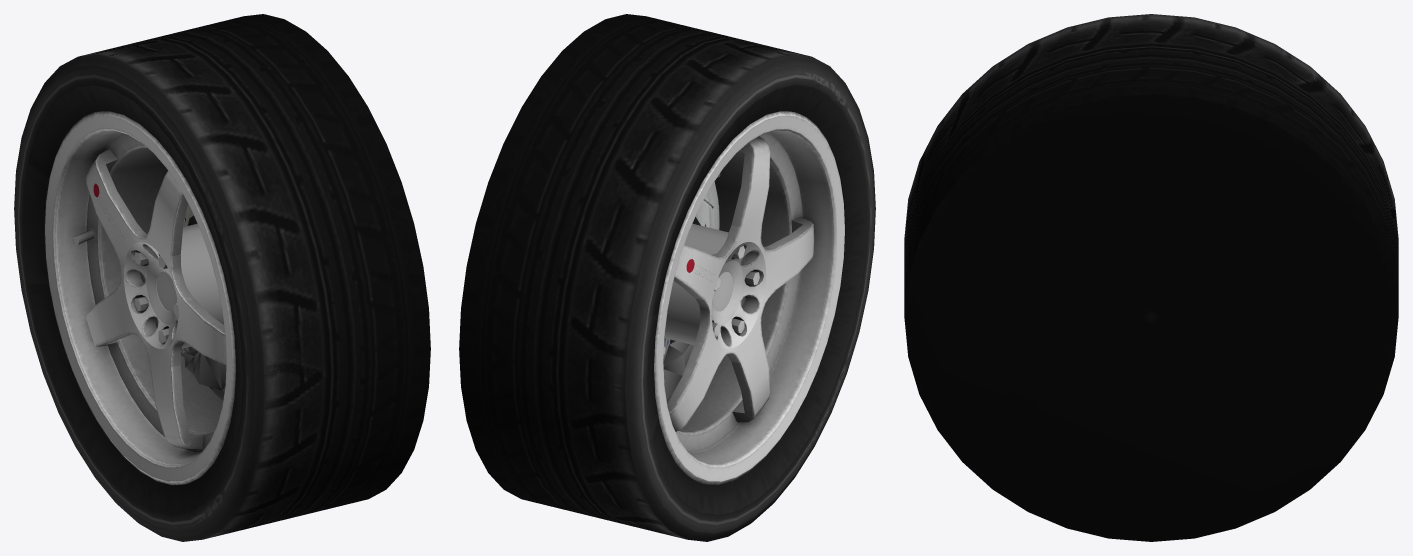
File: gtrR34.fbx
3 renders of one model, left to right at view 1: azimuth 30°, elevation 25°; view 2: azimuth 150°, elevation 25°; view 3: azimuth 270°, elevation 25°, orthographic.
Parts seen in each view (by area): view 1: Tirerr_garage_a, Tirerl_garage_a, Rimrl_garage_a1_vcolor, support_rr_a_vcolor; view 2: Tirerr_garage_a, Rimrl_garage_a1_vcolor, Tirerl_garage_a, support_rr_a_vcolor, brake_disk_rl_garage_a; view 3: Tirerr_garage_a, Tirerl_garage_a, Tire_LP_rr_garage_a, Tire_LP_rl_garage_a.
Part boxes in pixels (box(x1,y1,x2,y2)): Tirerr_garage_a: box(14, 14, 430, 533); Tirerl_garage_a: box(14, 57, 430, 541); Rimrl_garage_a1_vcolor: box(45, 111, 235, 484); support_rr_a_vcolor: box(181, 346, 226, 400); Tirerr_garage_a: box(459, 14, 875, 539); Rimrl_garage_a1_vcolor: box(654, 111, 844, 484); Tirerl_garage_a: box(459, 60, 875, 541); support_rr_a_vcolor: box(663, 340, 693, 399); brake_disk_rl_garage_a: box(664, 181, 719, 346); Tirerr_garage_a: box(904, 14, 1398, 541); Tirerl_garage_a: box(904, 94, 1398, 541); Tire_LP_rr_garage_a: box(961, 147, 1341, 456); Tire_LP_rl_garage_a: box(961, 147, 1341, 451).
Bounding box in the file's own units: 1.07 × 2.6 × 2.6.
